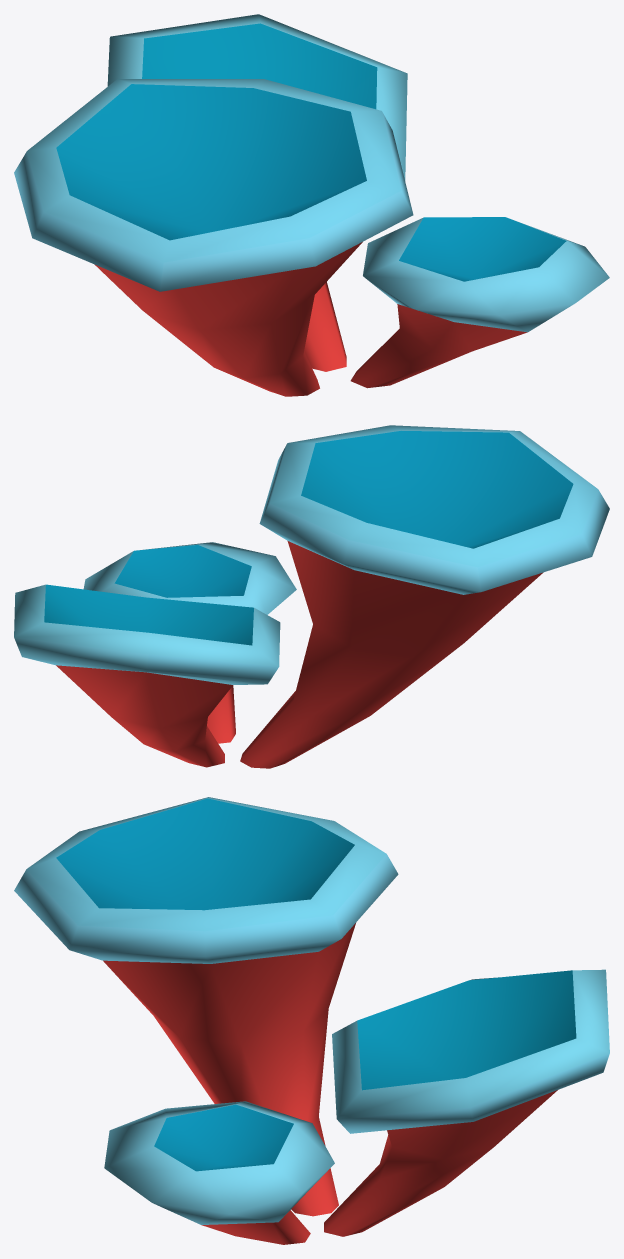
Rendered from mushroom-2.glb.
The picture shows the model from 3 angles, top to bottom: view 1: azimuth 30°, elevation 25°; view 2: azimuth 150°, elevation 25°; view 3: azimuth 270°, elevation 25°; orthographic projection. The views are drawn at different scales.
Parts seen in each view (by area): view 1: fabulous_mushroom_004; view 2: fabulous_mushroom_004; view 3: fabulous_mushroom_004.
Boxes of the visible parts, box(x1,y1,x2,y2) form: fabulous_mushroom_004: box(14, 14, 609, 396); fabulous_mushroom_004: box(14, 425, 609, 768); fabulous_mushroom_004: box(14, 797, 609, 1244).
Bounding box in the file's own units: 2.16 × 1.16 × 2.12.
Materials: 1 (1 with a texture image).
